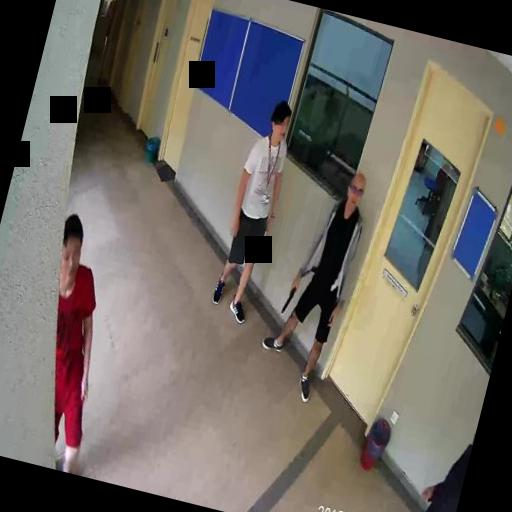Handgun: (280, 280, 297, 314)
